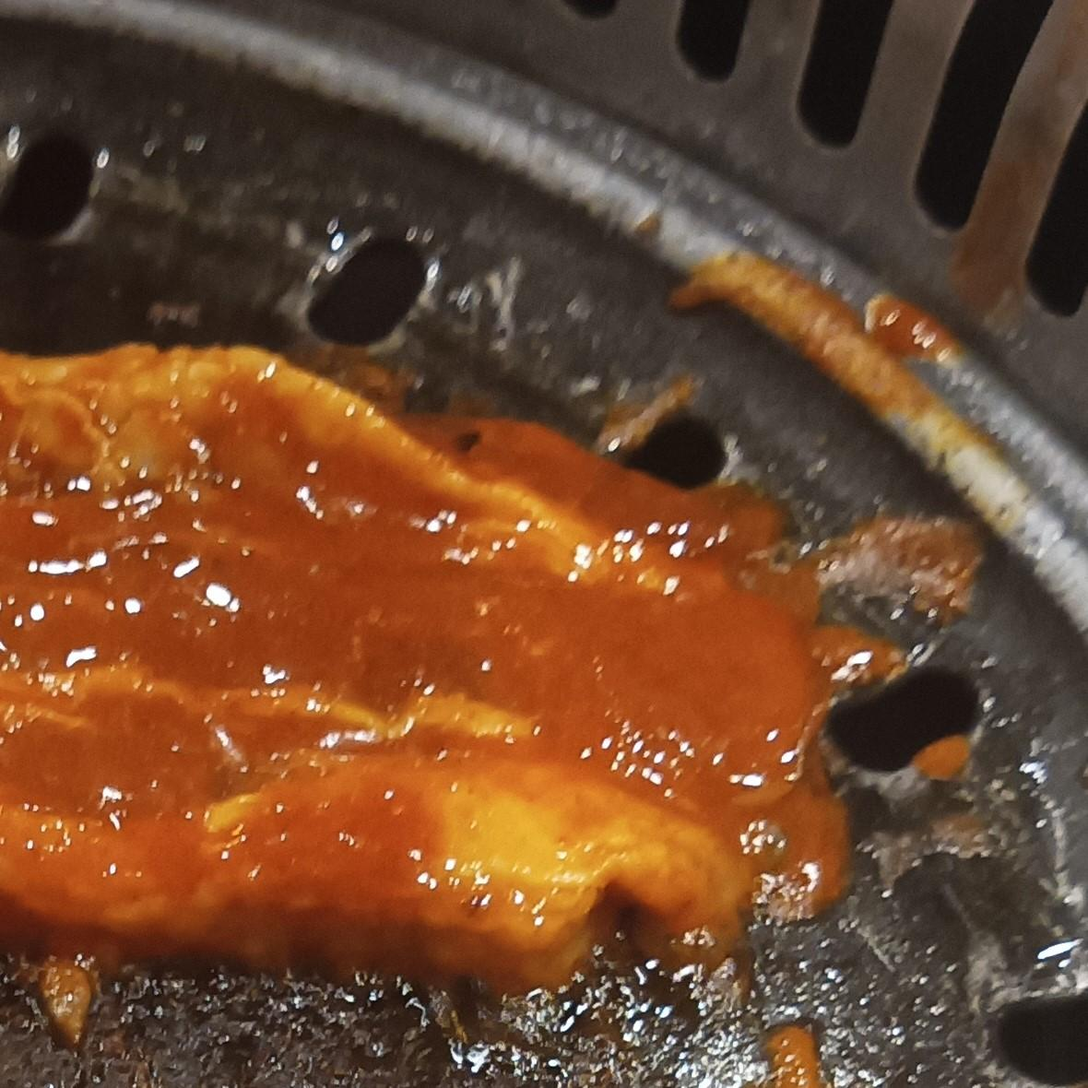Undercooked: (0, 346, 848, 996)
